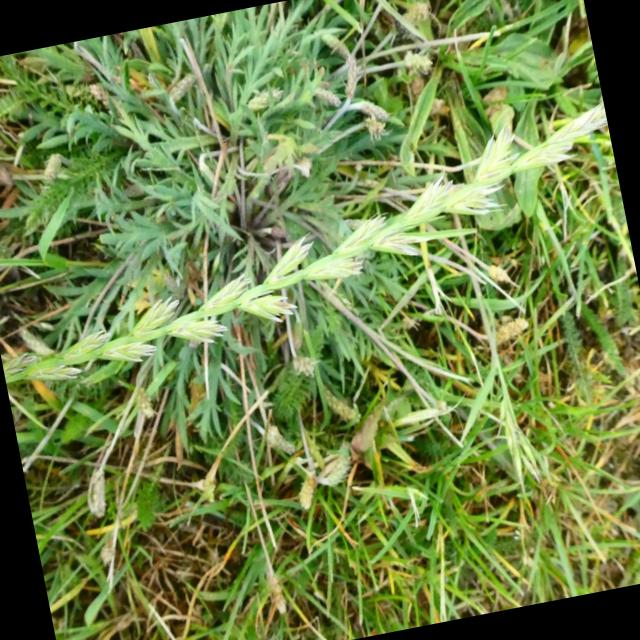Lolium: (0, 101, 636, 393)
